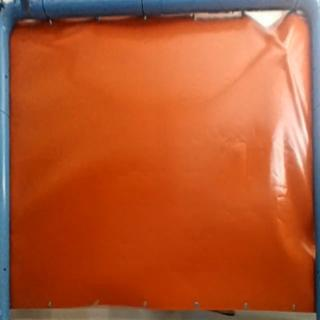Hit-hRxx: (276, 40, 294, 59)
